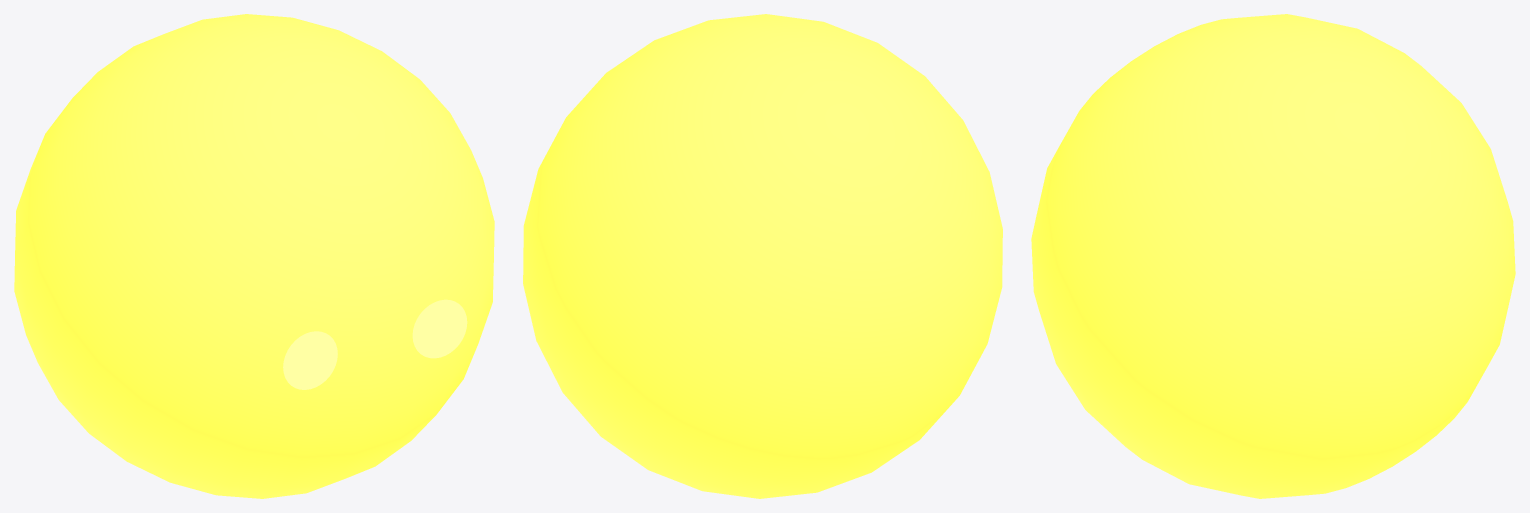
Rendered from ball-2.glb.
3 renders of one model, left to right at view 1: azimuth 30°, elevation 25°; view 2: azimuth 150°, elevation 25°; view 3: azimuth 270°, elevation 25°, orthographic.
Visible parts, largest first — view 1: BallGlow, LogosGlow; view 2: BallGlow; view 3: BallGlow.
Part boxes in pixels (x1=…): BallGlow: x1=14, y1=14, x2=494, y2=498; LogosGlow: x1=283, y1=299, x2=467, y2=389; BallGlow: x1=523, y1=14, x2=1002, y2=498; BallGlow: x1=1031, y1=14, x2=1515, y2=498.
Bounding box in the file's own units: 0.333 × 0.3376 × 0.3368.
